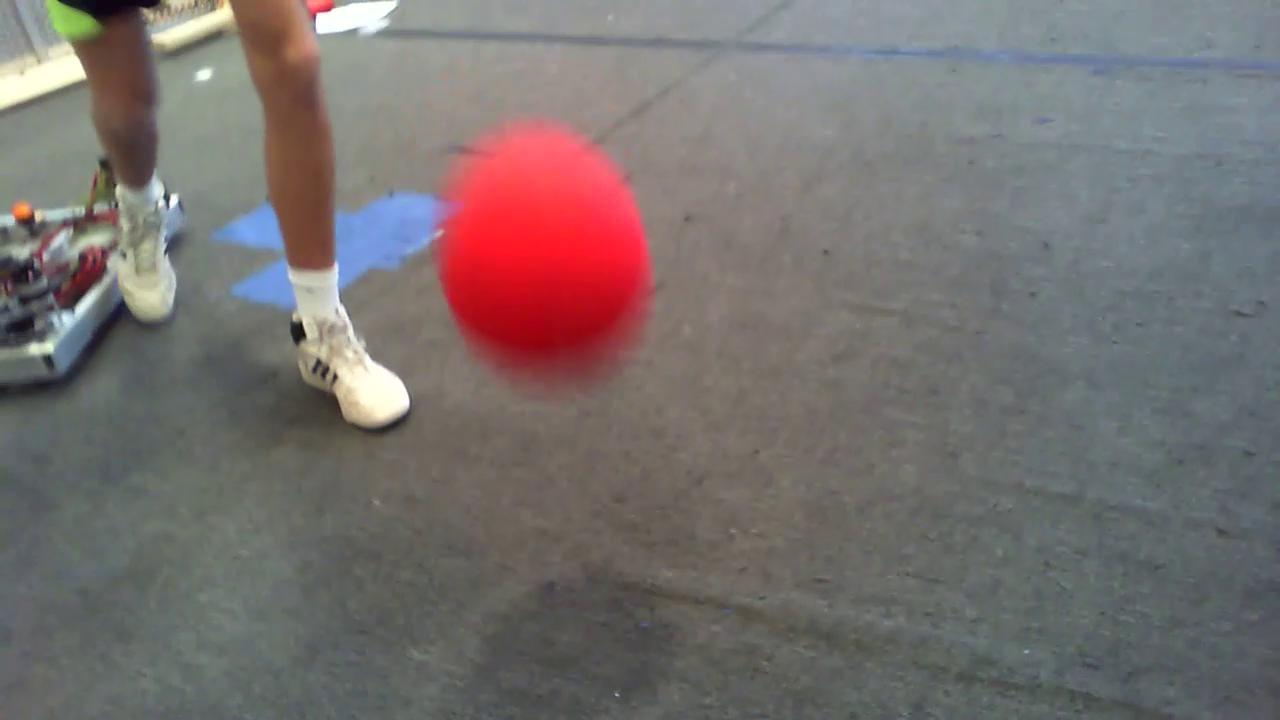Red_Ball: (405, 125, 674, 390)
